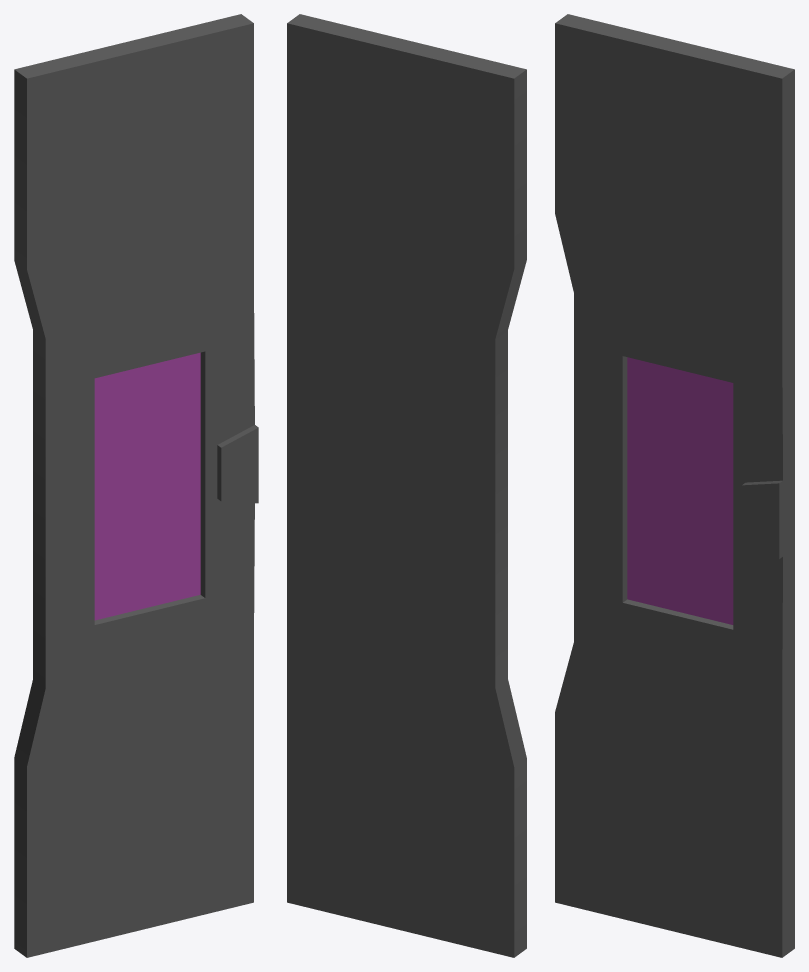
File: porte Armoire 5.fbx
3 renders of one model, left to right at view 1: azimuth 30°, elevation 25°; view 2: azimuth 150°, elevation 25°; view 3: azimuth 330°, elevation 25°, orthographic.
Visible parts, largest first — view 1: polySurface9; view 2: polySurface9; view 3: polySurface9.
Part boxes in pixels (x1=…): polySurface9: x1=14, y1=14, x2=258, y2=957; polySurface9: x1=287, y1=14, x2=526, y2=957; polySurface9: x1=555, y1=14, x2=794, y2=957.
Bounding box in the file's own units: 2.81 × 10.35 × 0.3506.
